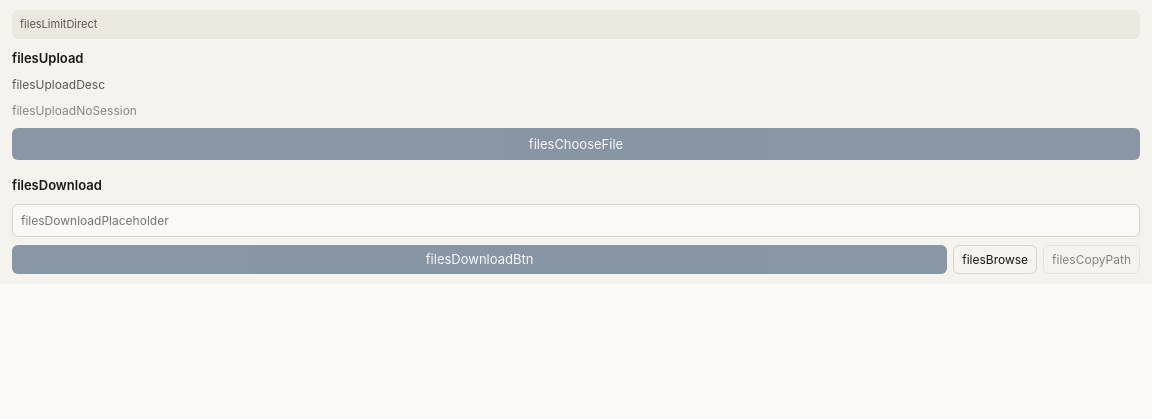
FilesPanel 当前项目（未启动终端） › FilesPanel_BrowserUsesCurrentProjectWithoutTerminal_1
The image size is (1152, 419).
Click the button "filesBrowse".
click(995, 259)  # box [953,244,1037,274]
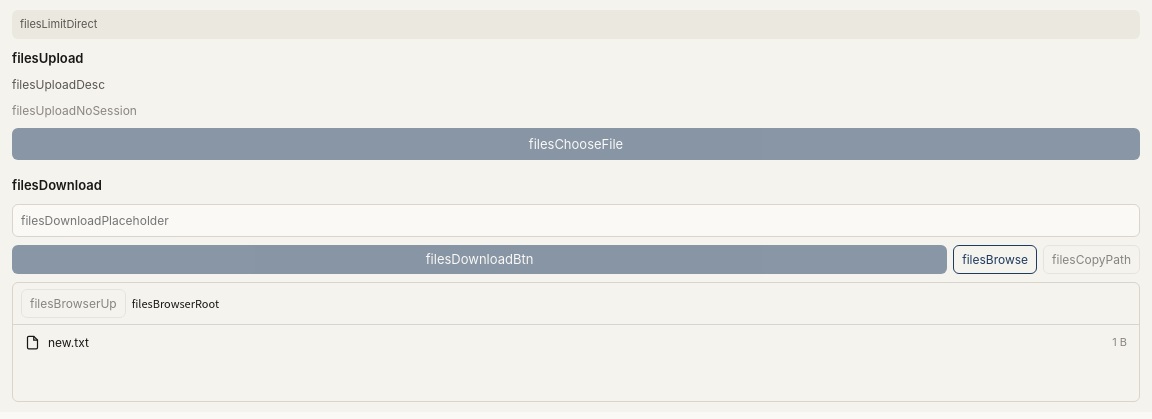
expect the text "new.txt" is shown: met, box [48,334,89,350]
